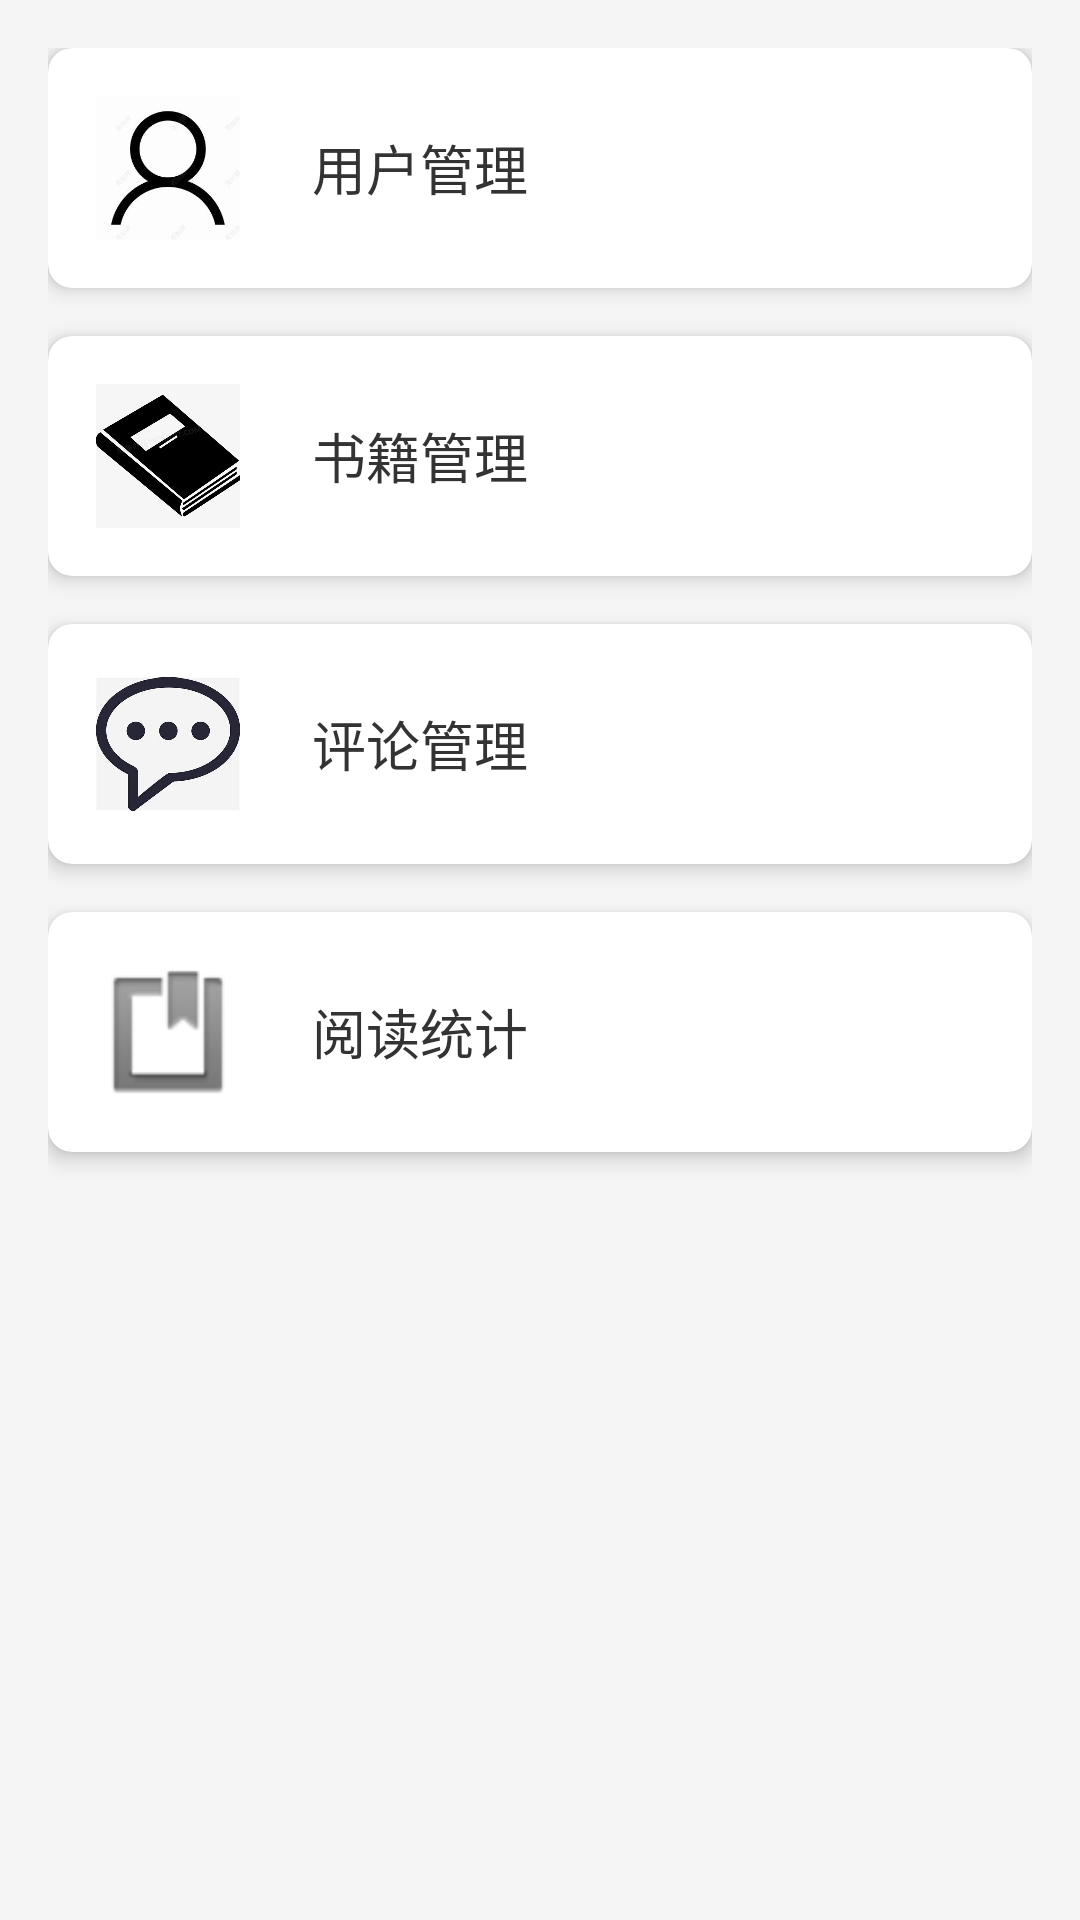

Icon click points for this 1080px×1920px phone screenshot, format (x=x, y=y):
books: (x=168, y=456)
comments: (x=168, y=744)
users: (x=168, y=168)
